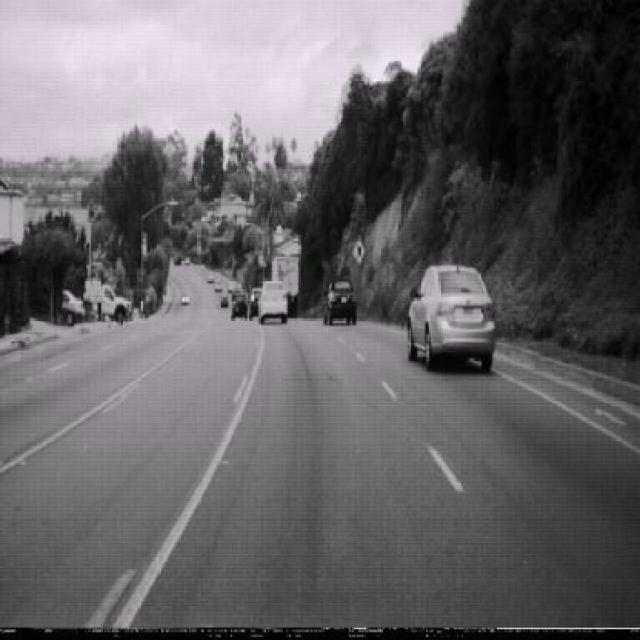pedestrianCrossing: (351, 237, 365, 266)
